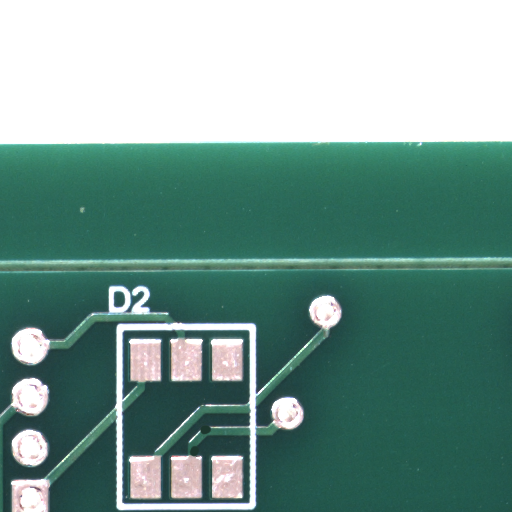Mouse_bite: (206, 430, 217, 440), (194, 451, 203, 460)
